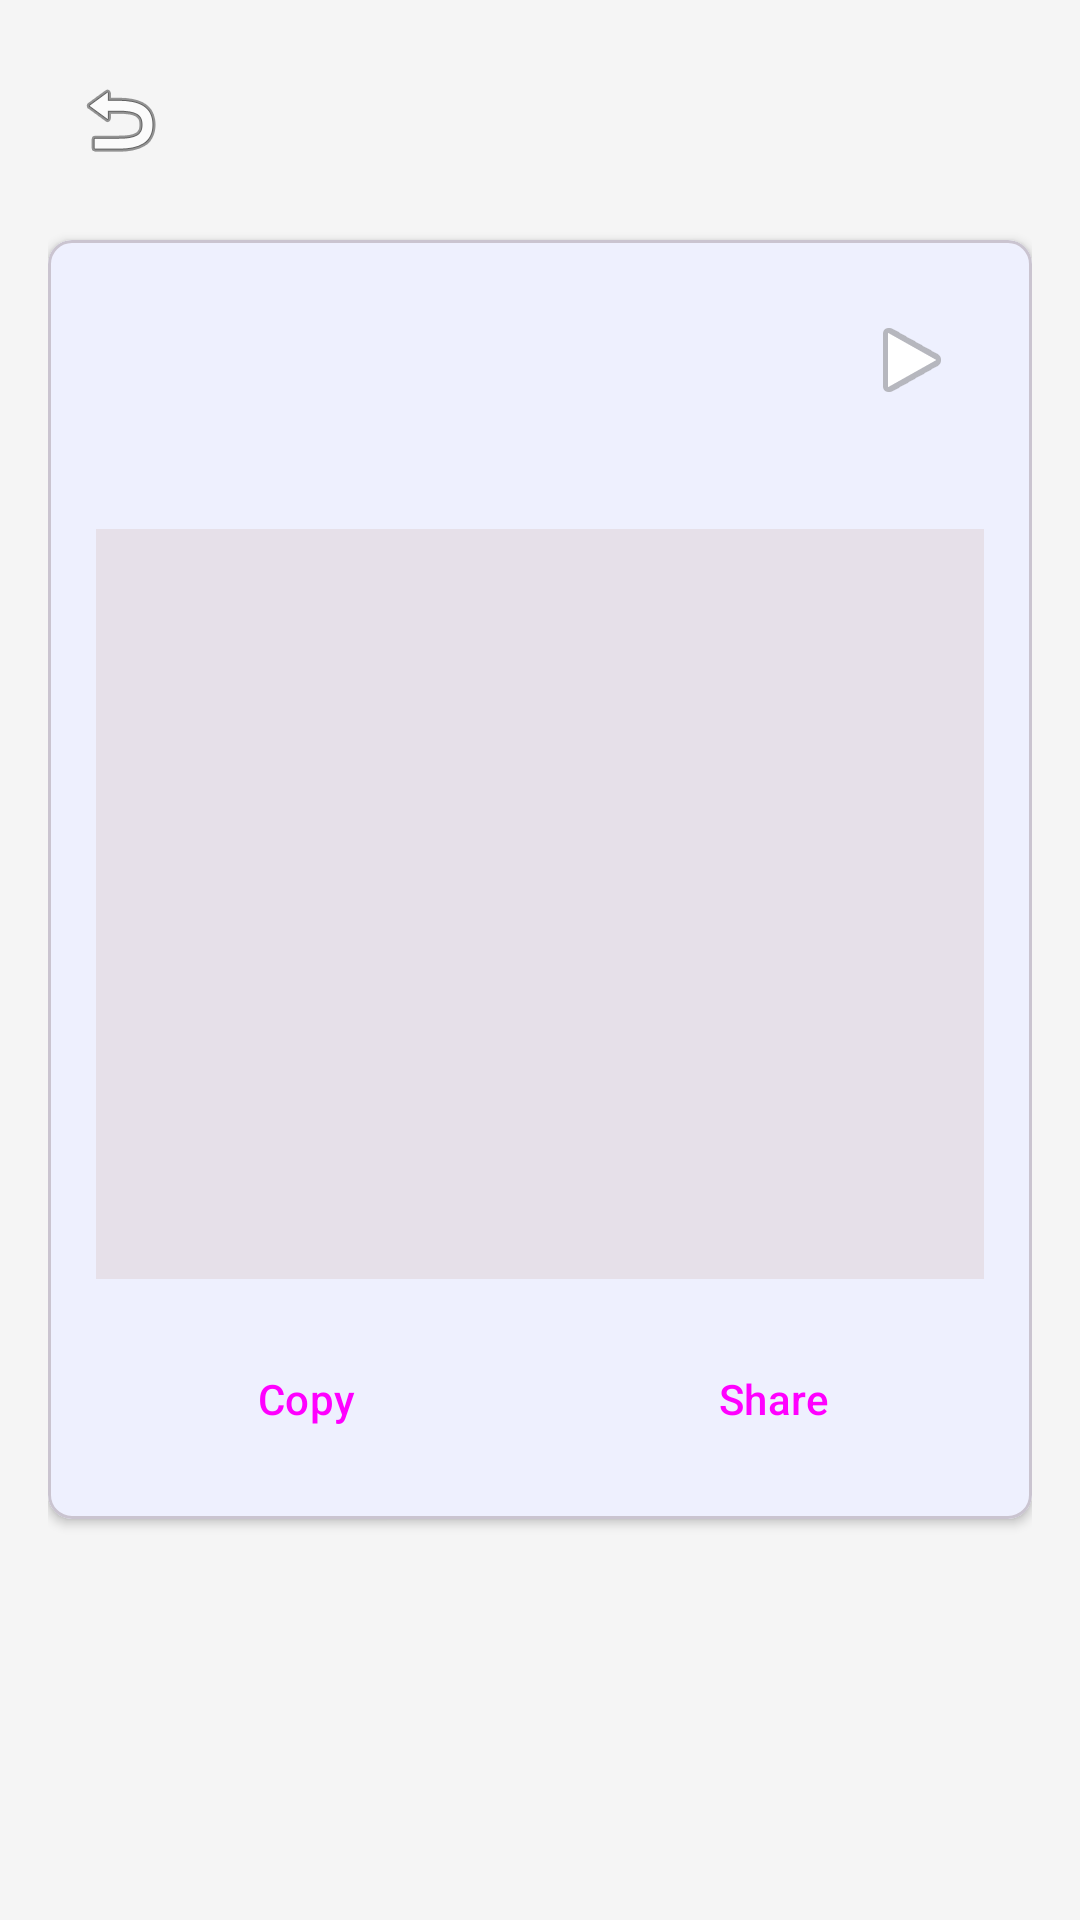

Named icons in this screenshot (1080 x 1920) and their centers, [x,y]:
Cancel: [121,120]
Play all: [912,360]
